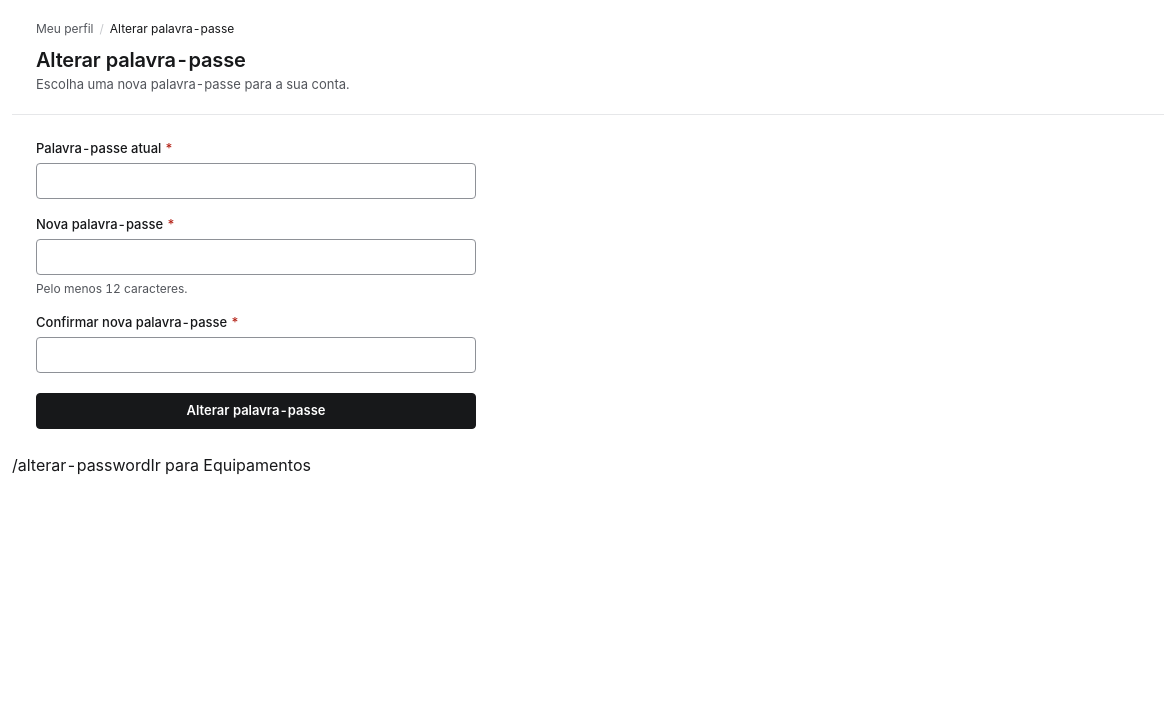
Test: Alterar palavra-passe › shows the API’s field error on the field it concerns
This screenshot has width=1164, height=720.
Check: the heading "Alterar palavra-passe" is shown, box [36,48,246,72]
Type "errada" into the password field labelled "Palavra-passe atual *".
click(256, 181); type("errada")  # box [36,163,476,199]
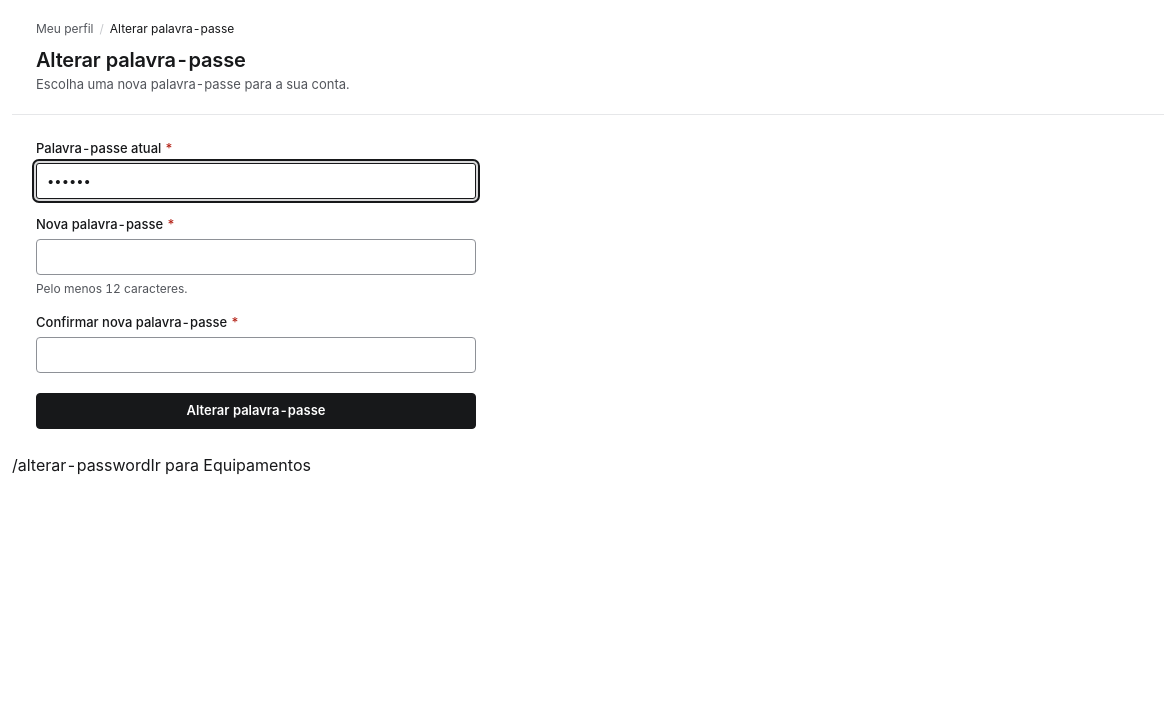
Type "NovaPalavra123" into the password field labelled "Nova palavra-passe *".
click(256, 257); type("NovaPalavra123")  # box [36,239,476,275]
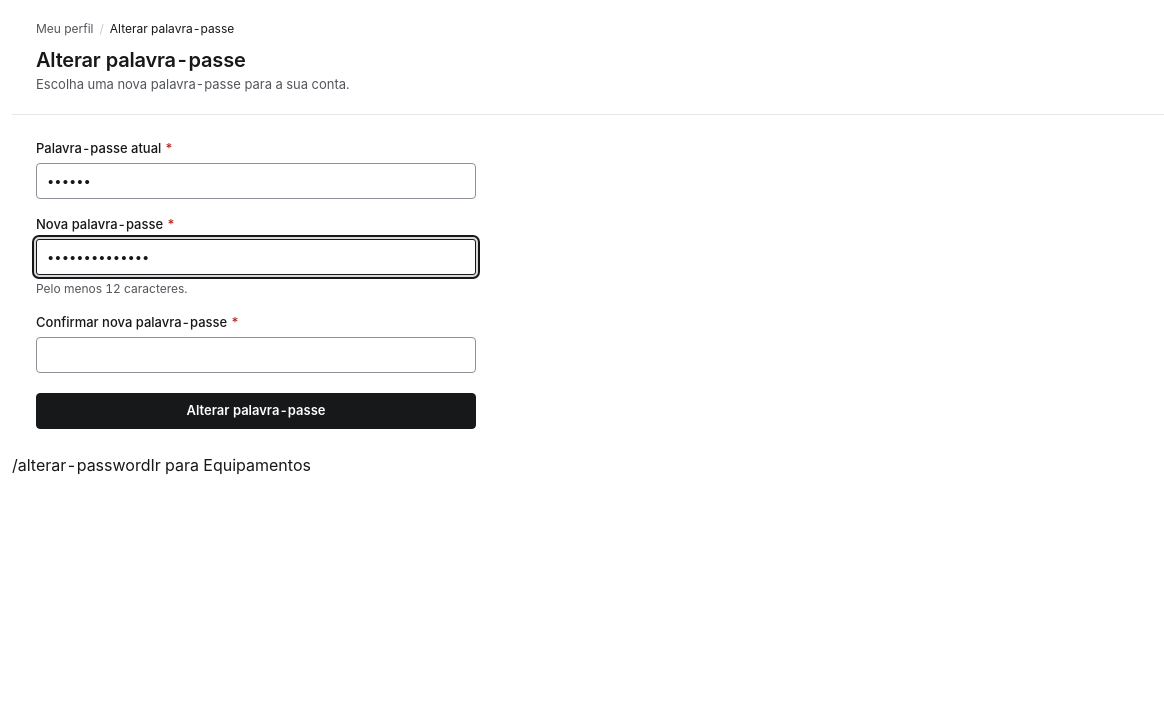
Type "NovaPalavra123" into the password field labelled "Confirmar nova palavra-passe *".
click(256, 355); type("NovaPalavra123")  # box [36,337,476,373]
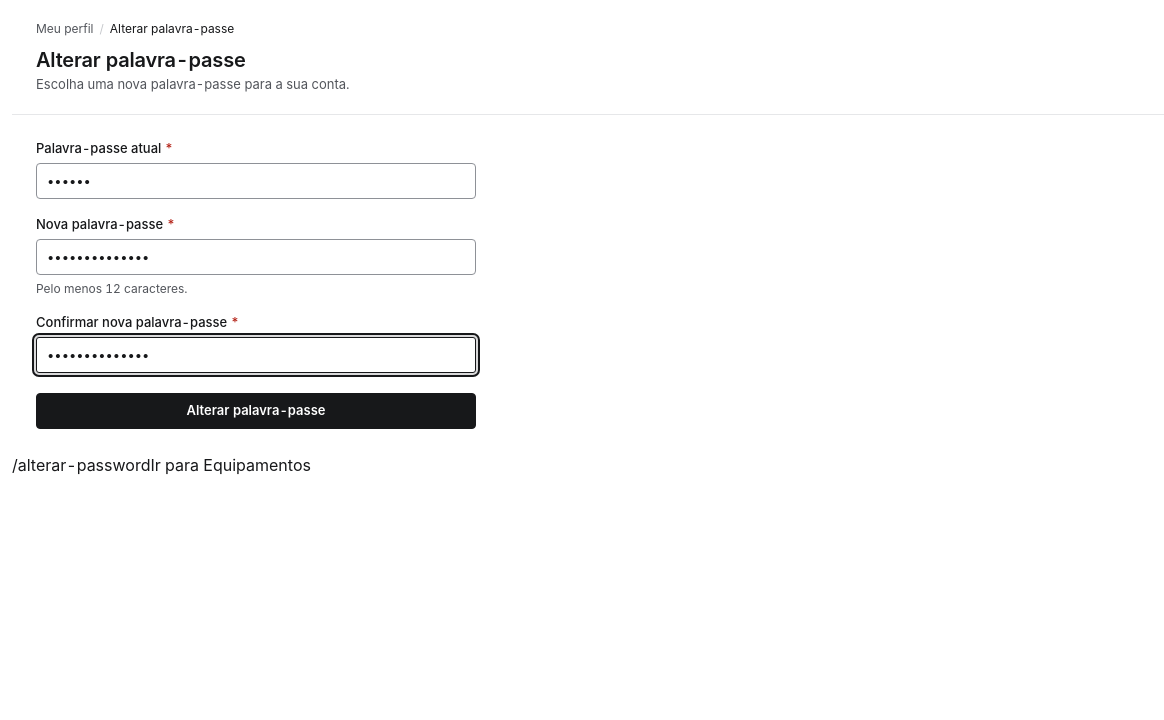
Click the button "Alterar palavra-passe".
click(256, 411)  # box [36,393,476,429]
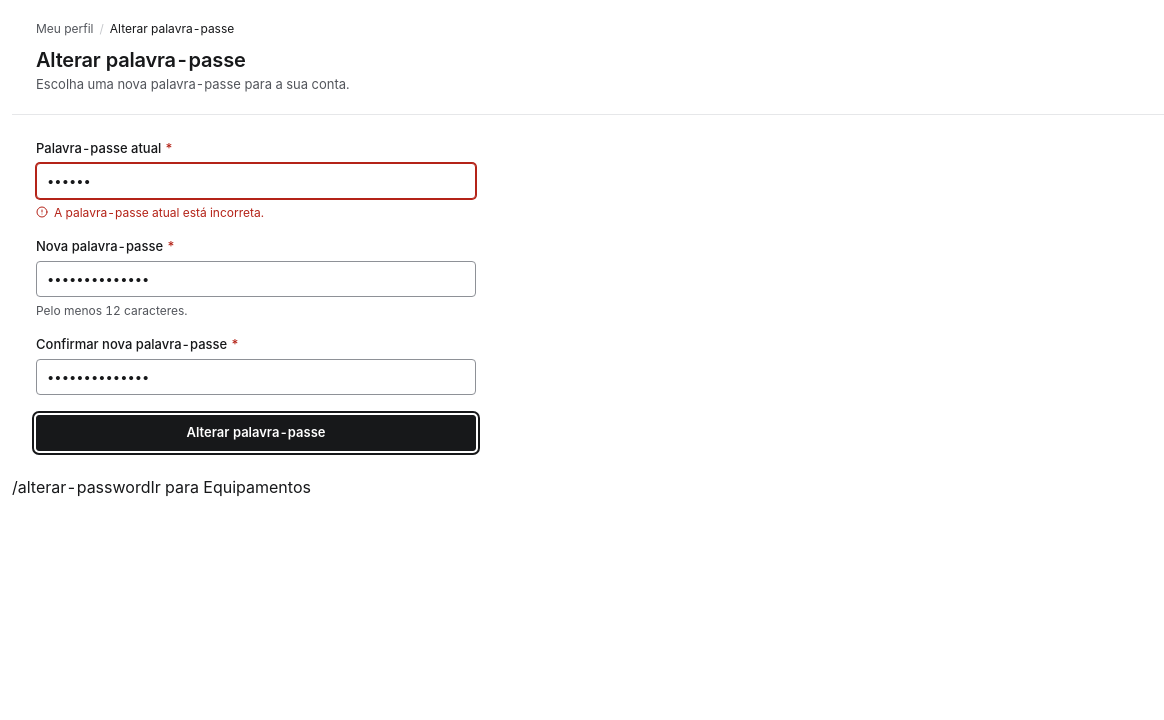
Check: the text "A palavra-passe atual está incorreta." is shown, box [54,205,264,221]
